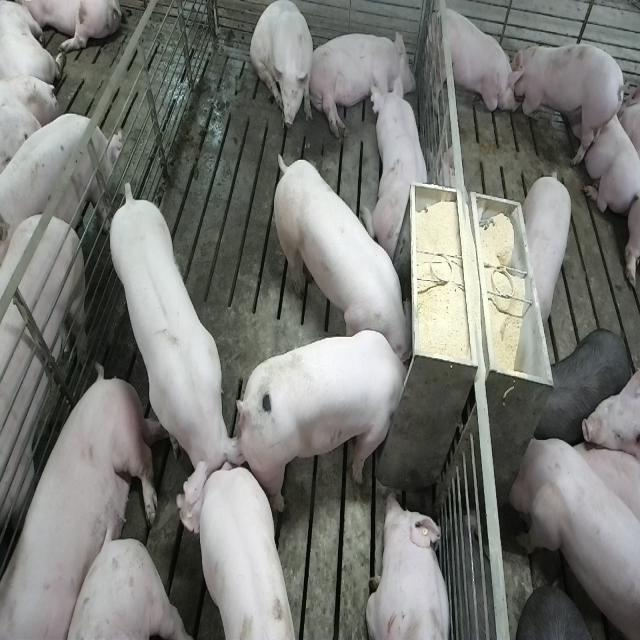Feeding: (244, 329, 418, 514), (269, 147, 411, 361)
Lateral_lying: (4, 367, 158, 640), (308, 25, 417, 140)
Sitting: (422, 0, 515, 124), (251, 2, 315, 136)
Standing: (108, 181, 245, 517), (0, 204, 88, 607), (509, 435, 638, 640), (181, 466, 300, 640), (0, 106, 118, 257), (509, 37, 624, 166), (534, 327, 632, 445), (523, 166, 575, 324)
Sternal_lying: (365, 489, 453, 640), (367, 75, 433, 264), (574, 83, 639, 212)
